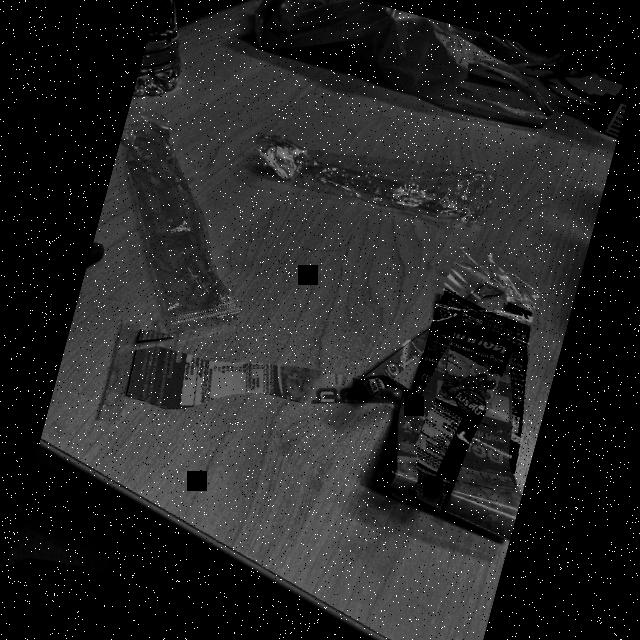scrap_plastic: (337, 239, 578, 551), (74, 110, 311, 360), (222, 81, 520, 266)
